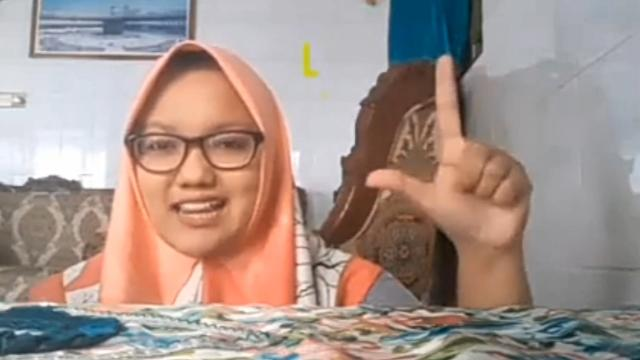L: (360, 52, 536, 256)
